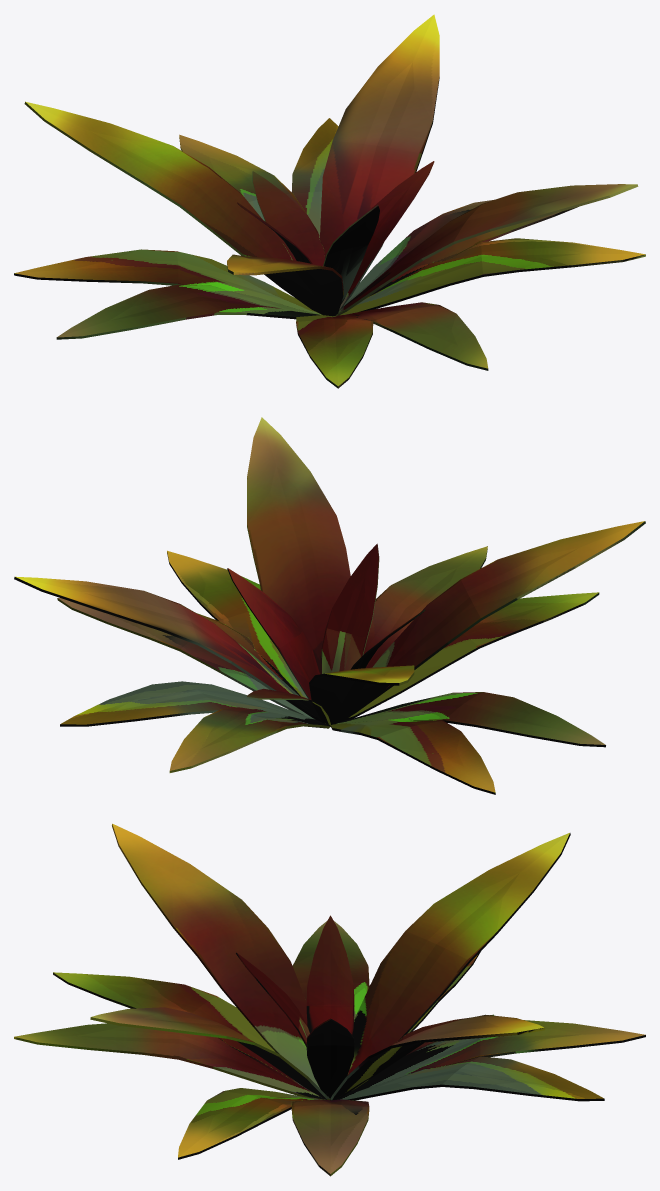
Rendered from Bush1.fbx.
3 renders of one model, top to bottom at view 1: azimuth 30°, elevation 25°; view 2: azimuth 150°, elevation 25°; view 3: azimuth 270°, elevation 25°, orthographic.
Parts seen in each view (by area): view 1: Plane.010; view 2: Plane.010; view 3: Plane.010.
Part boxes in pixels (x1,y1,x2,y2): Plane.010: (14, 14, 645, 388); Plane.010: (14, 417, 645, 794); Plane.010: (14, 823, 645, 1176).
Bounding box in the file's own units: 98.23 × 30.28 × 97.35.
Materials: 1 (1 with a texture image).
